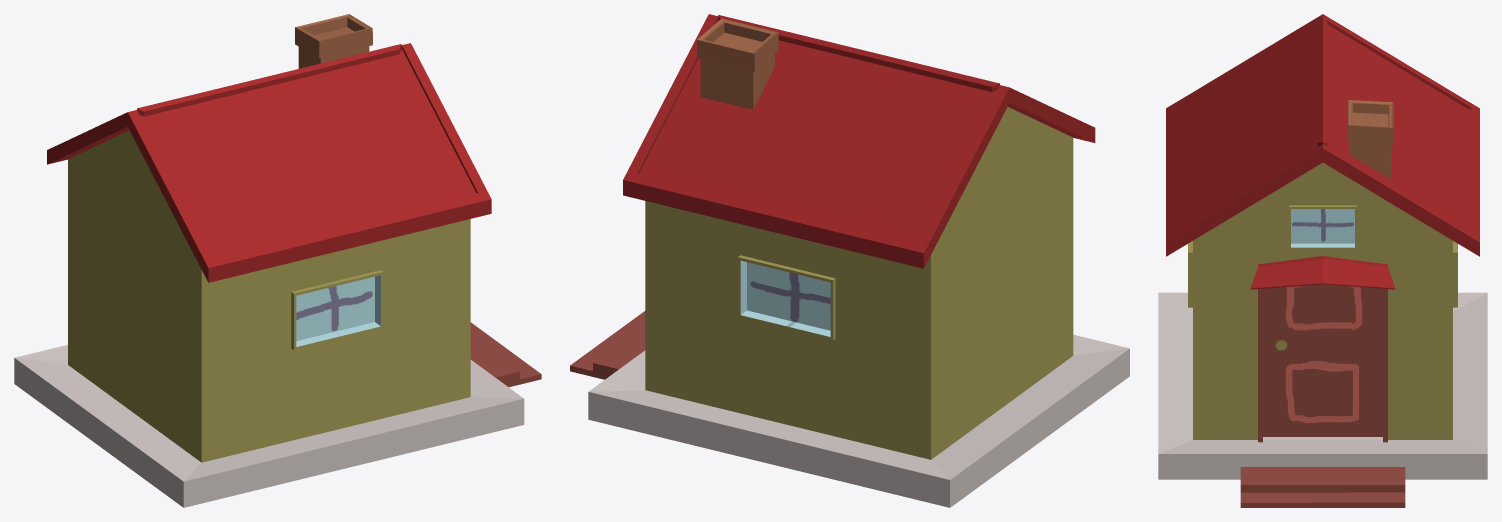
File: NPCHousestextured.fbx
The picture shows the model from 3 angles, left to right: view 1: azimuth 30°, elevation 25°; view 2: azimuth 150°, elevation 25°; view 3: azimuth 270°, elevation 25°; orthographic projection. The views are drawn at different scales.
Visible parts, largest first — view 1: House; view 2: House; view 3: House.
Boxes of the visible parts, bbox=[...] form: House: bbox=[14, 14, 541, 507]; House: bbox=[570, 14, 1129, 507]; House: bbox=[1158, 14, 1487, 507].
Bounding box in the file's own units: 1760 × 1422 × 1290.
